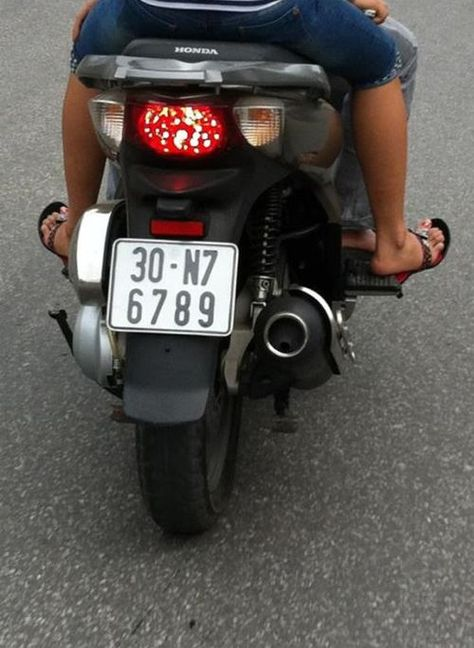number-plate: (115, 238, 227, 334)
